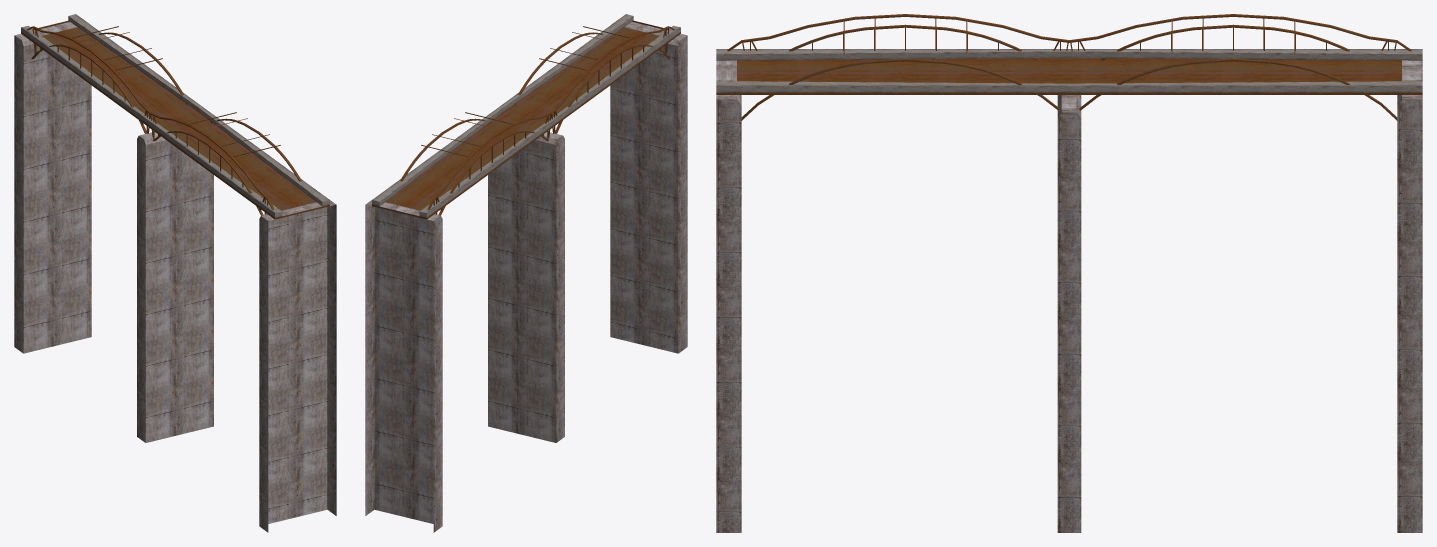
File: cunterb01.obj
3 views of the same model, side by side, from view 1: azimuth 30°, elevation 25°; view 2: azimuth 150°, elevation 25°; view 3: azimuth 270°, elevation 25° (orthographic). The views are drawn at different scales.
Visible parts, largest first — view 1: cunteRB01; view 2: cunteRB01; view 3: cunteRB01.
Part boxes in pixels (<box>): cunteRB01: <box>14,14,336,532</box>; cunteRB01: <box>365,14,687,532</box>; cunteRB01: <box>716,14,1422,532</box>.
Size of the model in its own units: 15.37 by 74.12 by 99.21.
3 materials, 3 textured.
